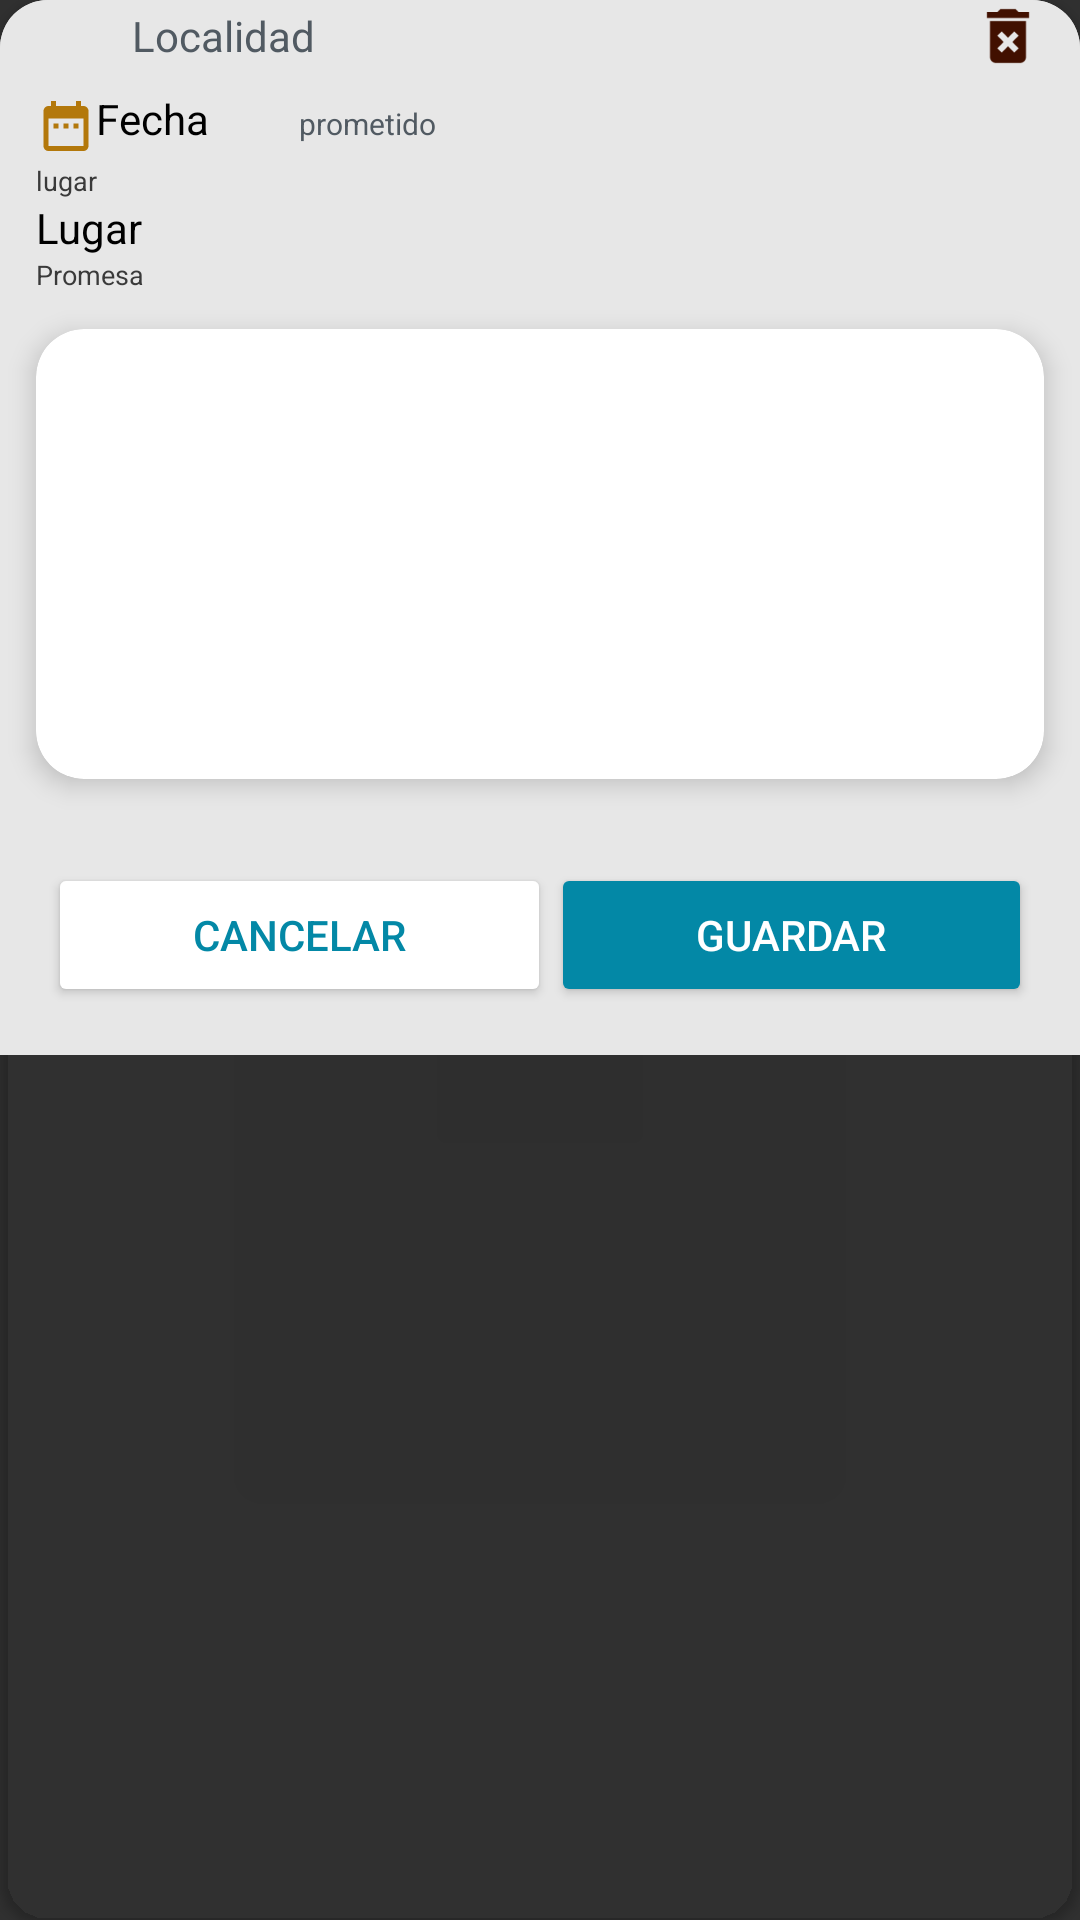

Named icons in this screenshot (1080 × 1920) and their centers, (x,y):
eliminar: (1008,36)
